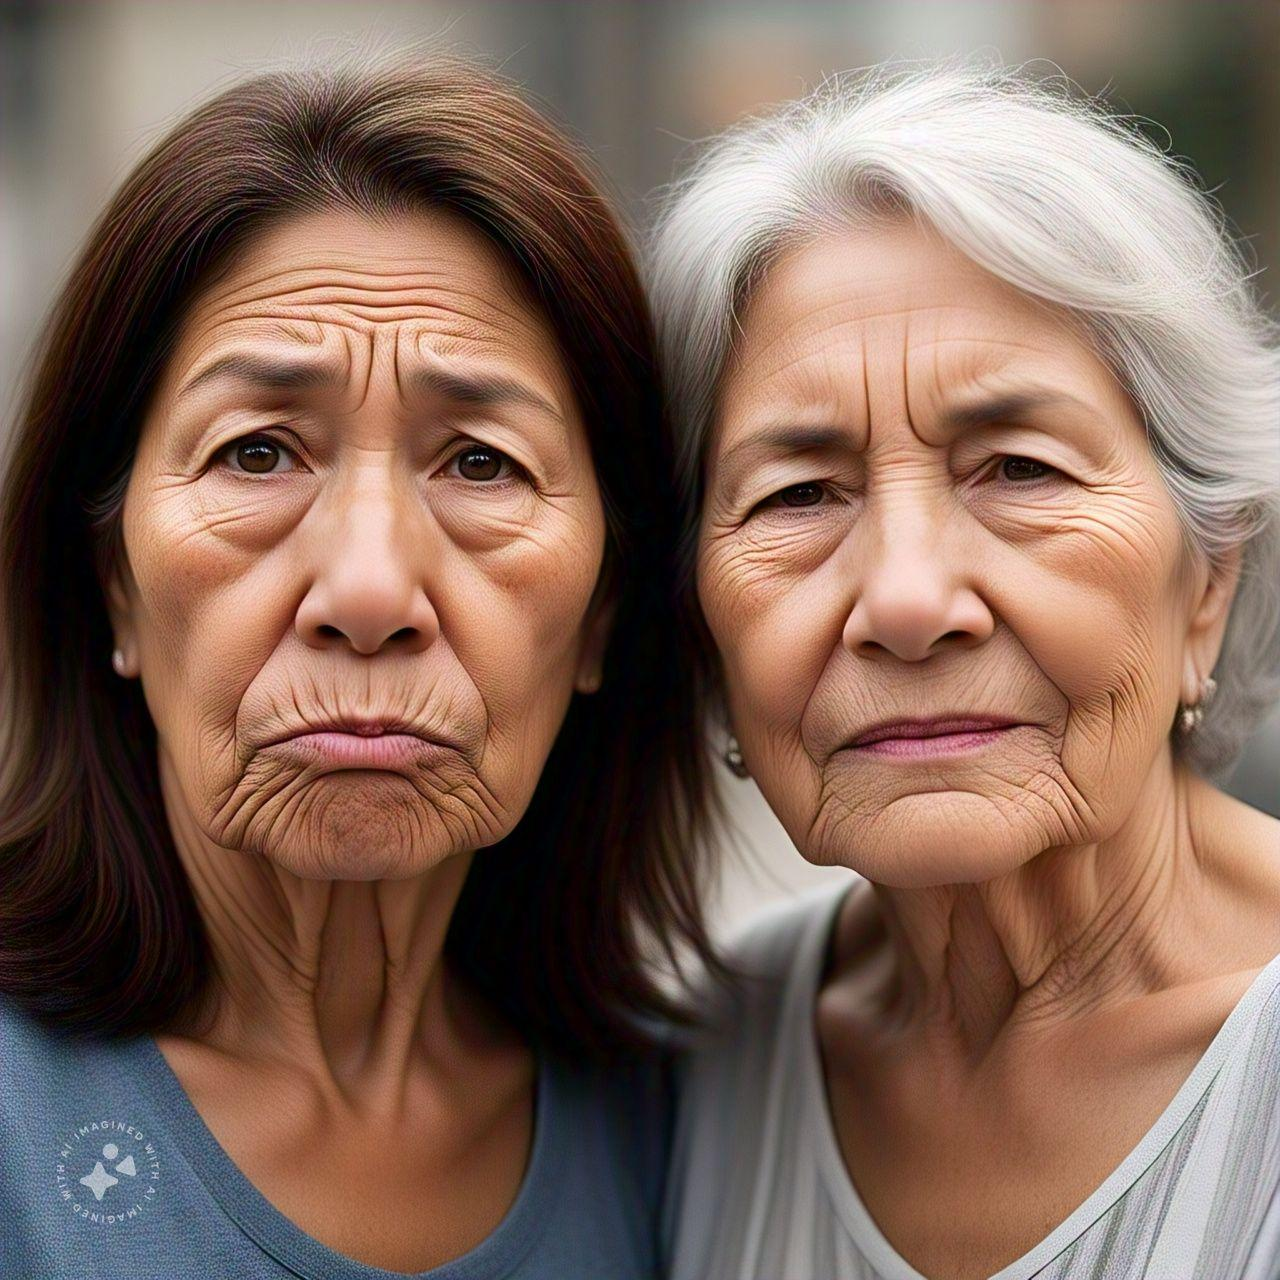normal: (706, 178, 1210, 888)
triste: (110, 145, 607, 886)
